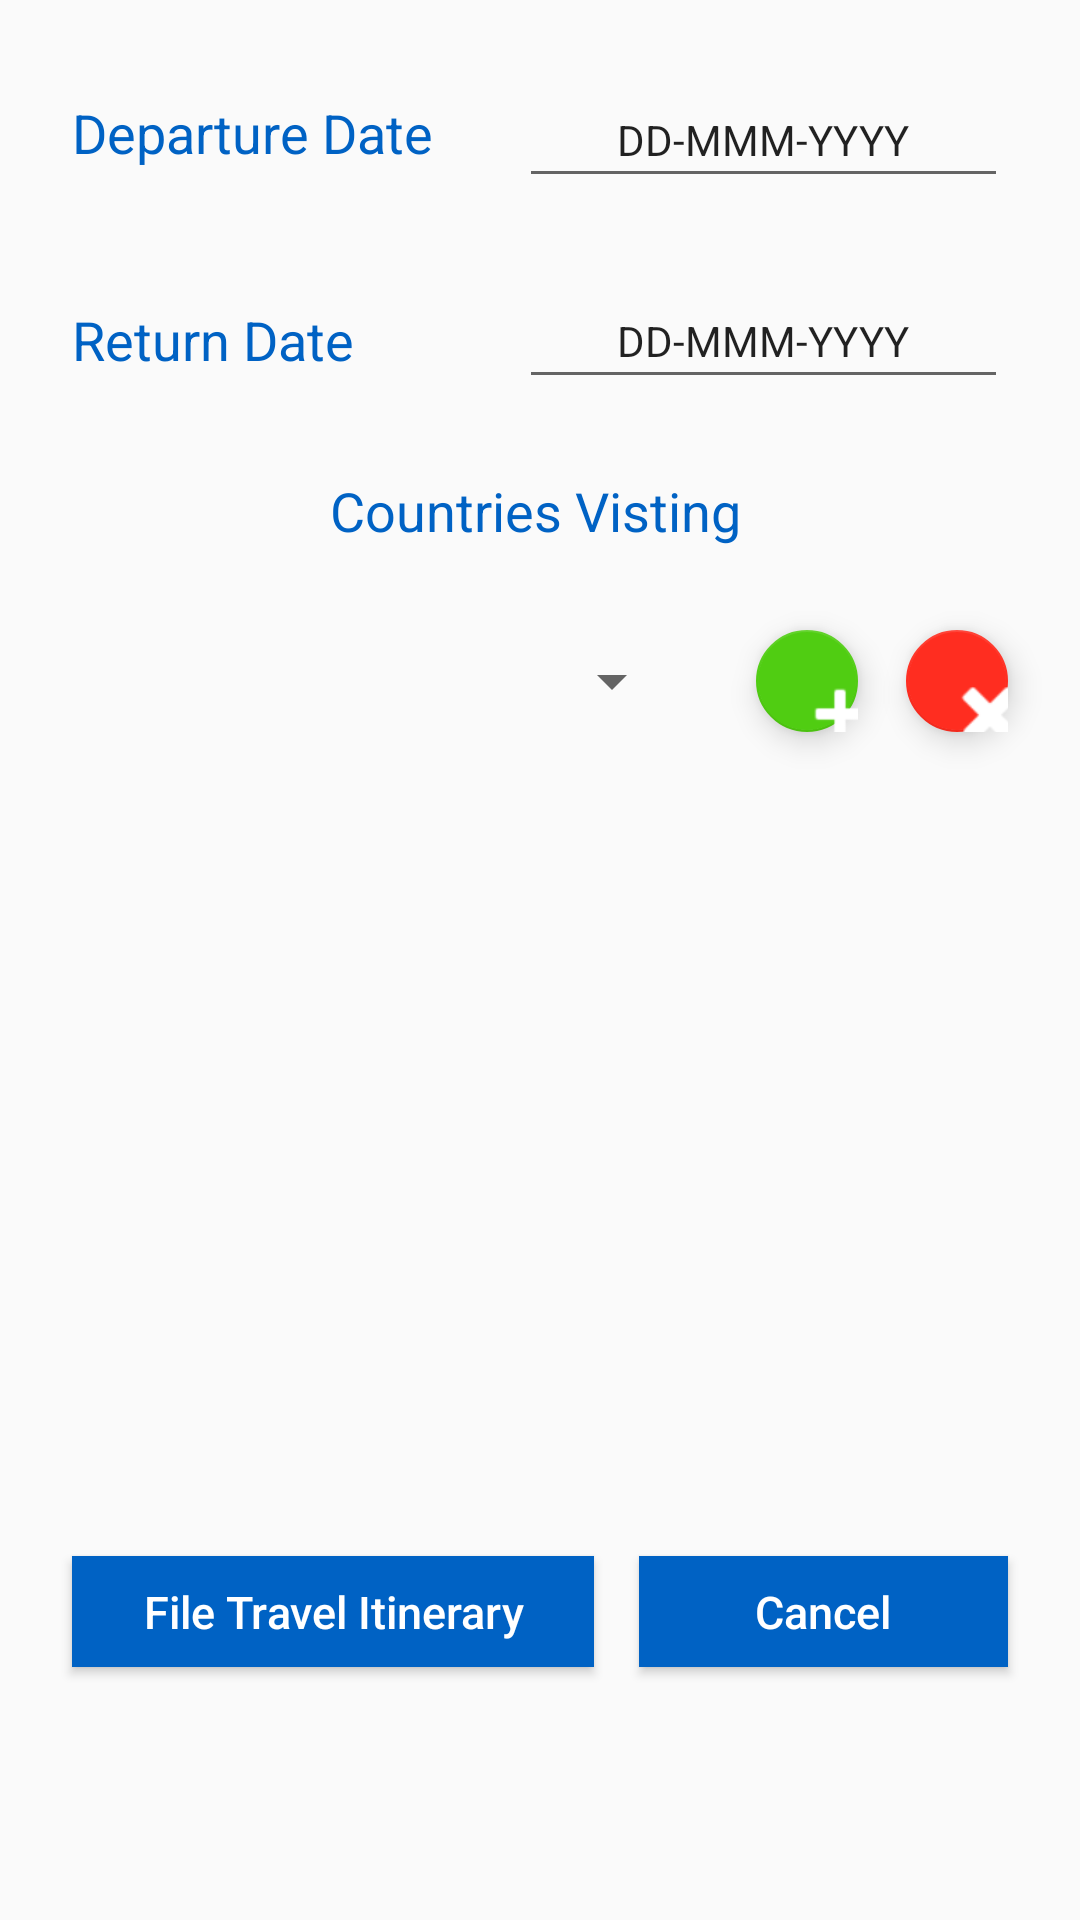

Icon bounding boxes for this 1080px×1920px phone screenshot, format (x1, y1, x2, y2):
add: (756, 630, 858, 732)
delete: (906, 630, 1008, 732)
